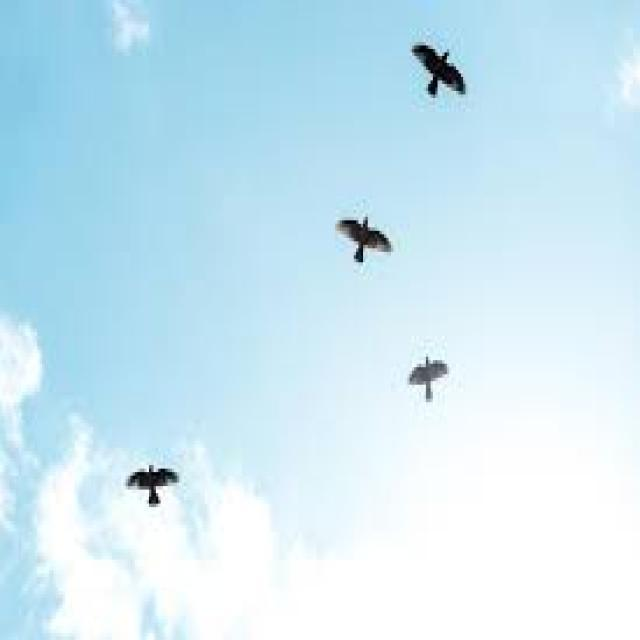bird: (393, 8, 496, 132), (111, 426, 212, 546), (321, 186, 426, 286), (394, 332, 450, 402)
